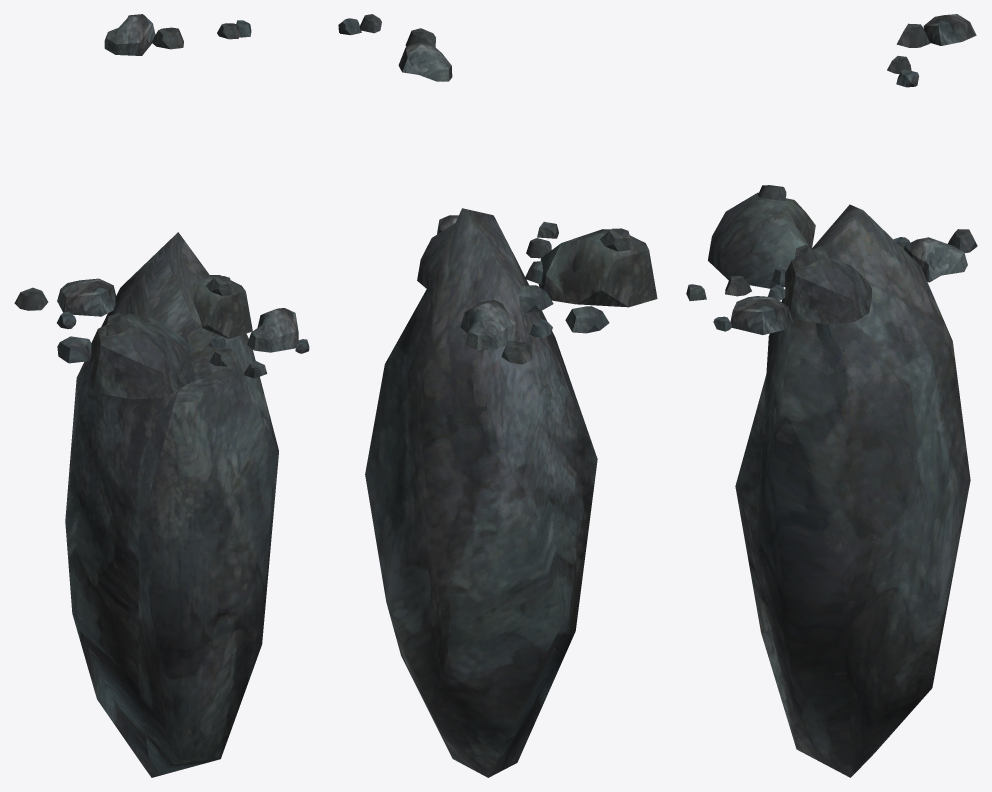
File: object_rubble38.fbx
3 views of the same model, side by side, from view 1: azimuth 30°, elevation 25°; view 2: azimuth 150°, elevation 25°; view 3: azimuth 270°, elevation 25° (orthographic). The views are drawn at different scales.
Parts seen in each view (by area): view 1: object_rubble38-0; view 2: object_rubble38-0; view 3: object_rubble38-0.
Boxes of the visible parts, <box> form: object_rubble38-0: <box>14,14,309,777</box>; object_rubble38-0: <box>338,14,657,777</box>; object_rubble38-0: <box>686,14,977,777</box>.
Size of the model in its own units: 5.87 by 17.47 by 6.11.
